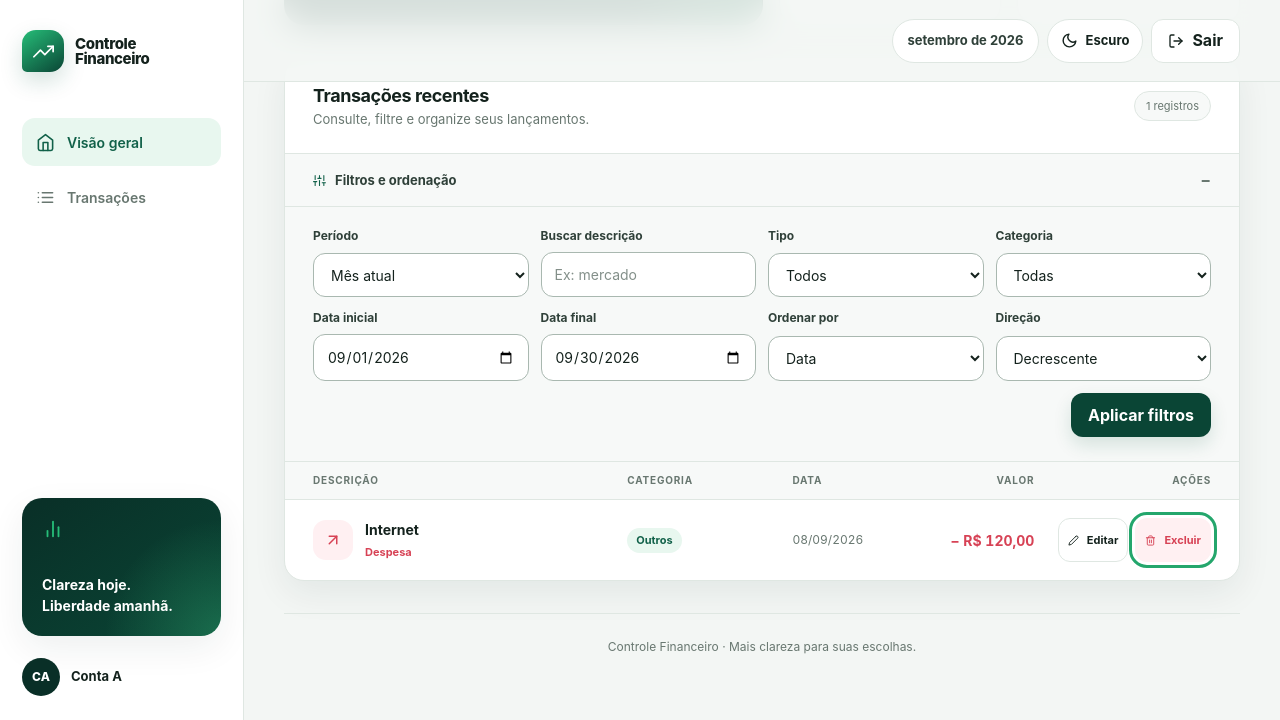
Test: exclusão pede confirmação, permite cancelar e devolve o foco
(page scrolled)
Expected: the button "Sair" is shown, [1151,18,1240,62]
What coordinates should you click on to do the following:
click the button with aria-label "Excluir Internet"
I would click on:
 (1173, 540)
Its box is [1135,518,1211,562].
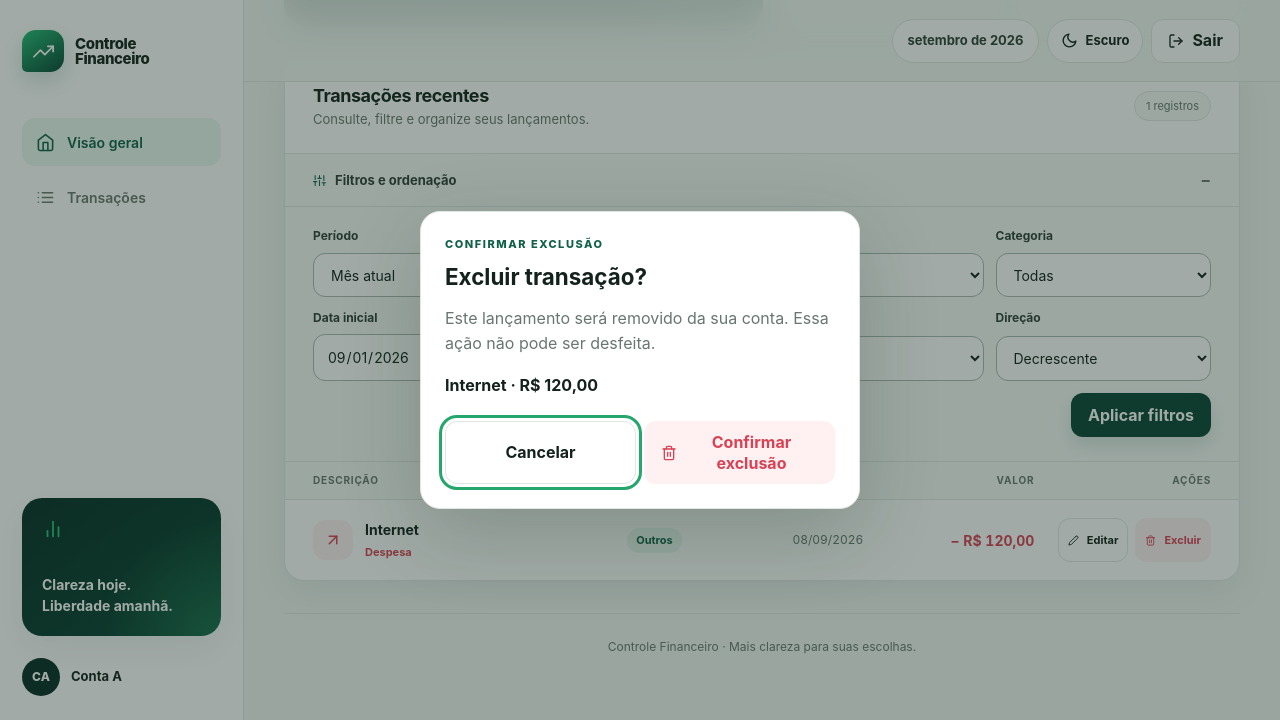
Expected: the dialog "Excluir transação?" is shown, [420,210,860,509]
What coordinates should you click on to do the following:
click the button "Cancelar"
I would click on:
 (540, 453)
Its box is [445,421,636,484].
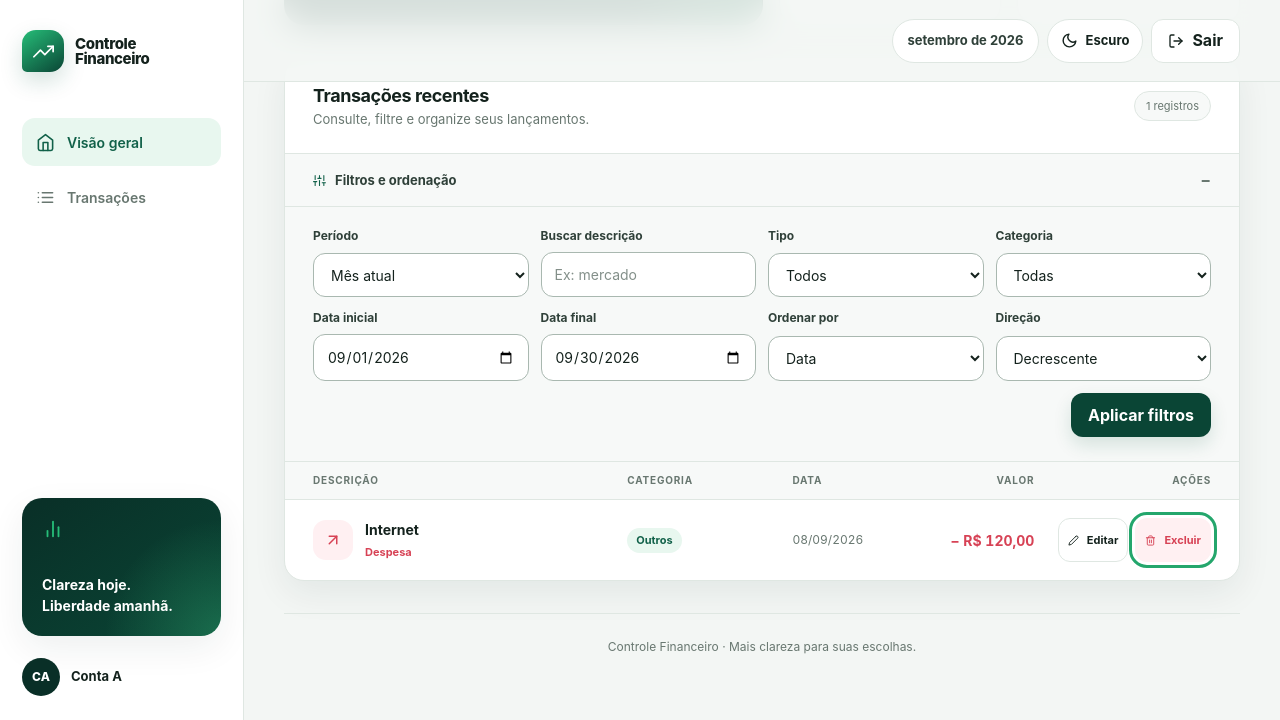
Expected: the dialog is gone
